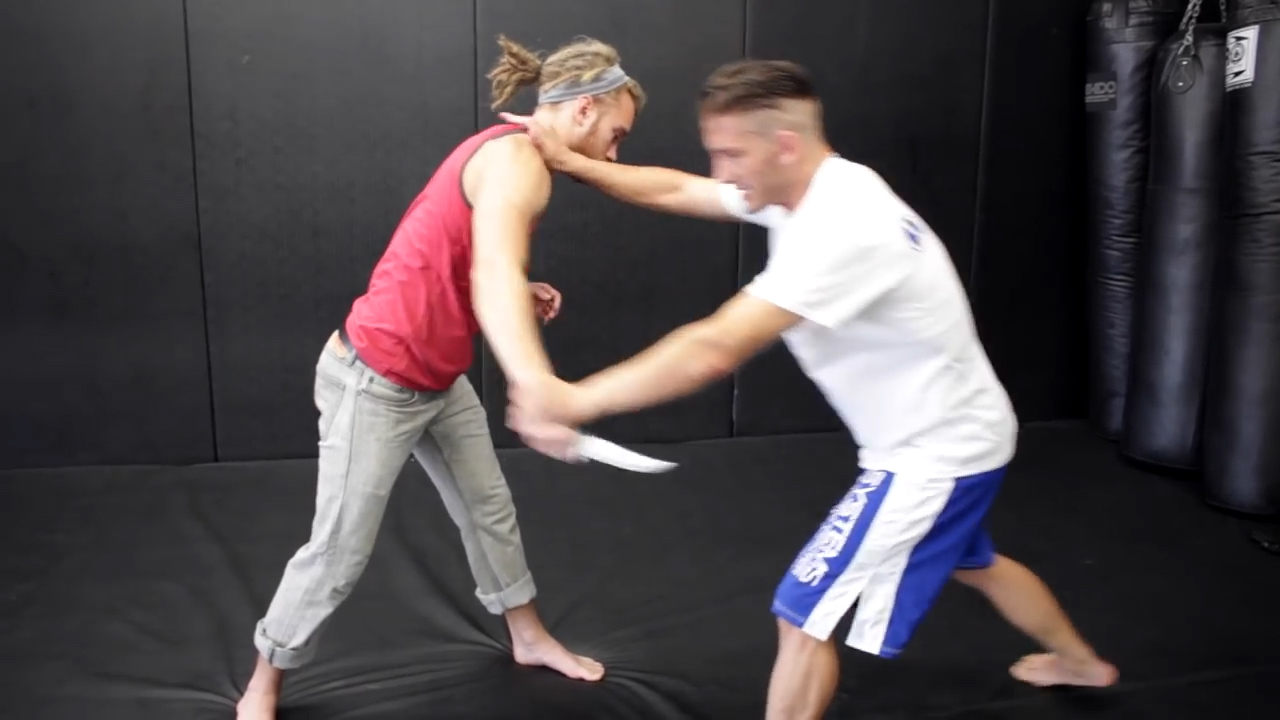knife: (493, 398, 692, 487)
